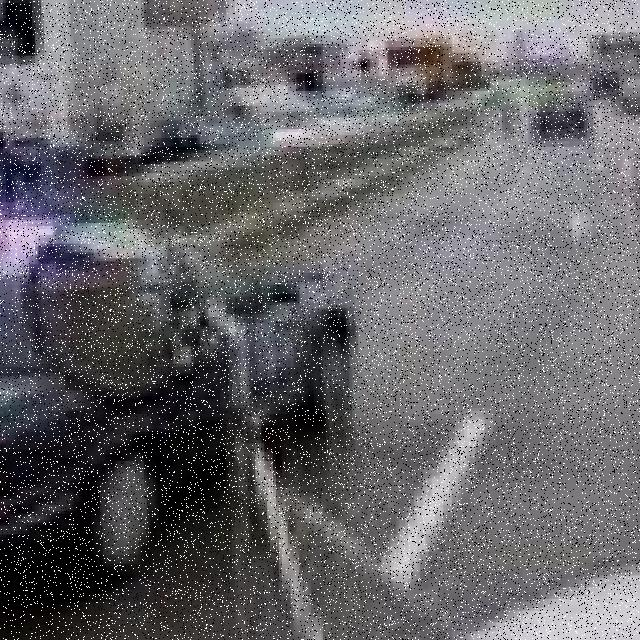clear-road: (0, 150, 640, 640)
